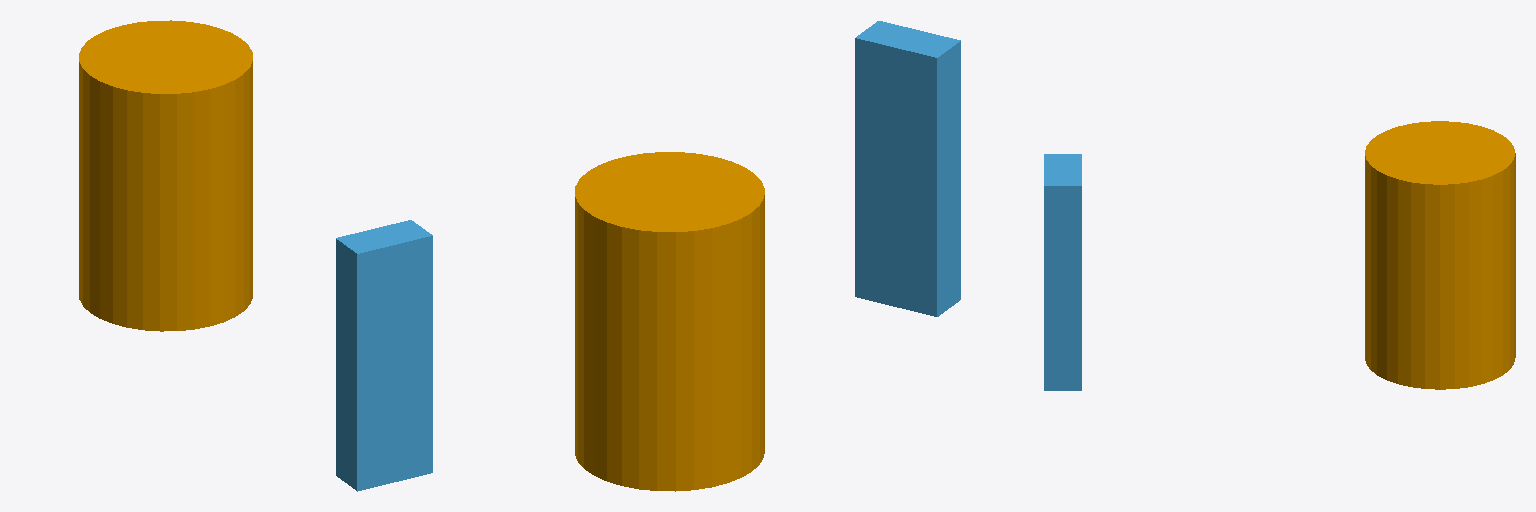
The robot description file, URDF, robot "origins":
<?xml version="1.0"?>
<robot name="origins">
  <link name="base_link">
    <visual>
      <geometry>
        <cylinder length="0.6" radius="0.2"/>
      </geometry>
    </visual>
  </link>

  <link name="right_leg">
    <visual>
      <geometry>
        <box size="0.6 0.1 0.2"/>
      </geometry>
      <origin rpy="0 1.57075 0" xyz="0 0 -0.3"/>
    </visual>
  </link>

  <joint name="base_to_right_leg" type="fixed">
    <parent link="base_link"/>
    <child link="right_leg"/>
    <origin xyz="0 -1 0.25"/>
  </joint>

</robot>

--- Facts derived from the render (not from the file) ---
3 views of the same robot in one strip: view 1: azimuth 30°, elevation 25°; view 2: azimuth 150°, elevation 25°; view 3: azimuth 270°, elevation 25° (orthographic).
Robot: origins — 2 links, 1 joints (1 fixed); root link base_link; default pose: all joints at 0.
Visible links, largest first — view 1: base_link, right_leg; view 2: base_link, right_leg; view 3: base_link, right_leg.
Link boxes in pixels (left/top/right/bottom): base_link: left=79, top=20, right=252, bottom=331; right_leg: left=336, top=220, right=432, bottom=491; base_link: left=575, top=152, right=764, bottom=491; right_leg: left=855, top=21, right=960, bottom=316; base_link: left=1365, top=121, right=1515, bottom=389; right_leg: left=1044, top=154, right=1081, bottom=390.
Size in the robot's own frame: 0.4 by 1.25 by 0.65 metres.
Geometry: primitives only (box / cylinder / sphere), no mesh files.